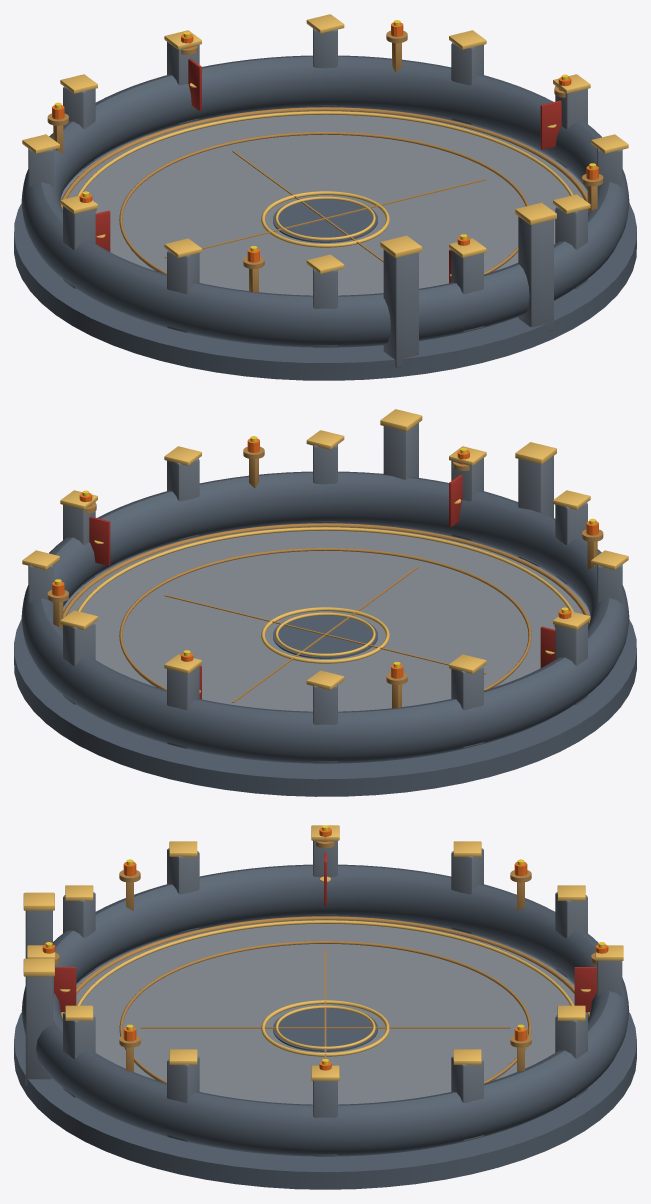
File: Arena Model.fbx
The picture shows the model from 3 angles, top to bottom: view 1: azimuth 30°, elevation 25°; view 2: azimuth 150°, elevation 25°; view 3: azimuth 270°, elevation 25°; orthographic projection.
Visible parts, largest first — view 1: Circular Arena Wall, Battle Area, Arena Foundation, Main Arena Floor, Entrance Pillar, Entrance Pillar.001, Center Platform, Outer Bronze Border, Outer Gold Ring, Battle Ring, Center Ring, Wall Pillar 8 (+18 smaller); view 2: Circular Arena Wall, Battle Area, Arena Foundation, Main Arena Floor, Center Platform, Outer Bronze Border, Battle Ring, Outer Gold Ring, Entrance Pillar, Entrance Pillar.001, Center Ring, Wall Pillar 4 (+19 smaller); view 3: Circular Arena Wall, Battle Area, Arena Foundation, Main Arena Floor, Center Platform, Outer Bronze Border, Entrance Pillar.001, Outer Gold Ring, Battle Ring, Center Ring, Wall Pillar 12, Wall Pillar 2 (+16 smaller).
Part boxes in pixels (x1,y1,x2,y2): Circular Arena Wall: (21, 55, 629, 347); Battle Area: (122, 134, 525, 295); Arena Foundation: (14, 111, 636, 380); Main Arena Floor: (60, 111, 587, 271); Entrance Pillar: (383, 250, 418, 367); Entrance Pillar.001: (518, 216, 553, 330); Center Platform: (273, 199, 377, 242); Outer Bronze Border: (61, 107, 587, 209); Outer Gold Ring: (77, 111, 573, 195); Battle Ring: (119, 132, 528, 274); Center Ring: (261, 191, 389, 247); Wall Pillar 8: (167, 250, 199, 332); Circular Arena Wall: (21, 471, 629, 763); Battle Area: (122, 550, 528, 711); Arena Foundation: (14, 527, 636, 796); Main Arena Floor: (63, 527, 590, 686); Center Platform: (273, 615, 377, 658); Outer Bronze Border: (63, 523, 589, 625); Battle Ring: (119, 548, 531, 690); Outer Gold Ring: (77, 527, 573, 611); Entrance Pillar: (518, 456, 553, 566); Entrance Pillar.001: (383, 423, 418, 529); Center Ring: (261, 607, 389, 663); Wall Pillar 4: (167, 666, 199, 748); Circular Arena Wall: (21, 864, 629, 1156); Battle Area: (122, 944, 528, 1104); Arena Foundation: (14, 920, 636, 1189); Main Arena Floor: (76, 920, 574, 1079); Center Platform: (273, 1008, 377, 1051); Outer Bronze Border: (61, 916, 589, 1018); Entrance Pillar.001: (25, 976, 52, 1086); Outer Gold Ring: (77, 920, 573, 1005); Battle Ring: (119, 941, 531, 1083); Center Ring: (261, 1000, 389, 1056); Wall Pillar 12: (167, 1056, 199, 1141); Wall Pillar 2: (451, 1056, 483, 1141).
Size of the model in its own units: 3200 by 715 by 3200.
